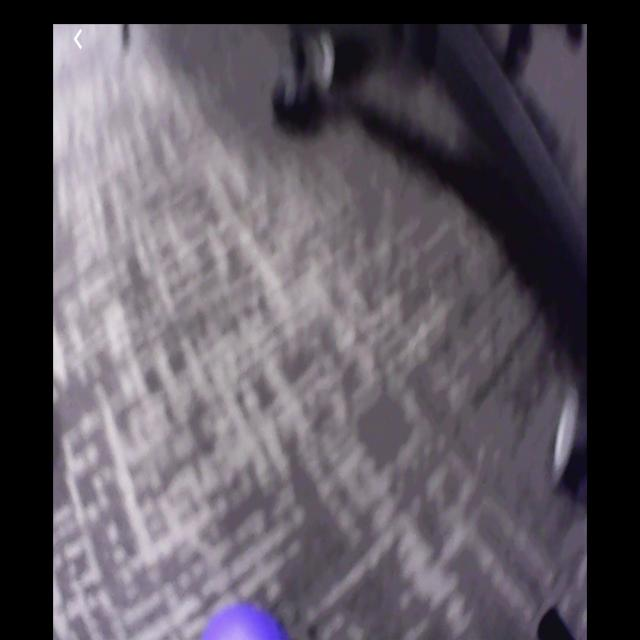ball: (198, 605, 298, 640)
